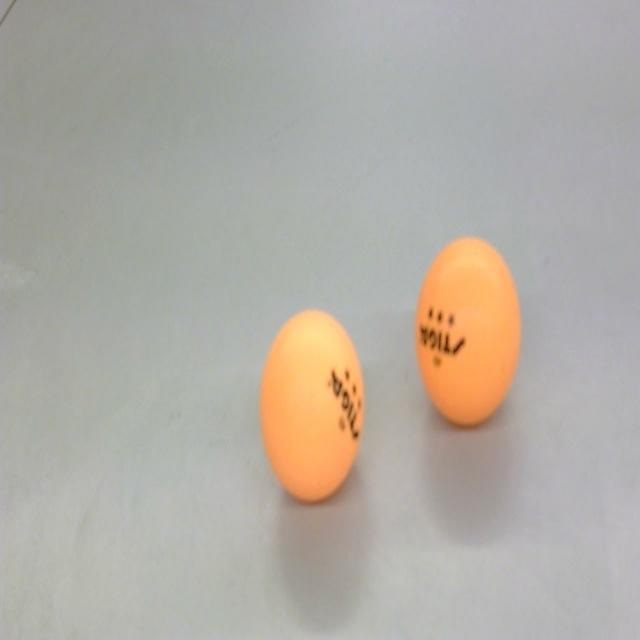ball: (259, 305, 367, 506), (414, 235, 524, 429)
